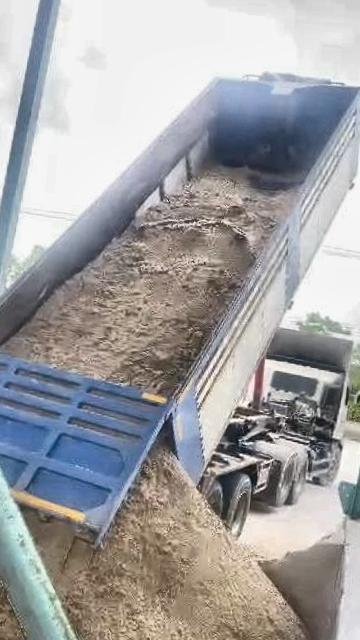sand: (3, 170, 295, 394), (27, 451, 317, 640), (0, 505, 67, 640), (263, 530, 343, 640)
